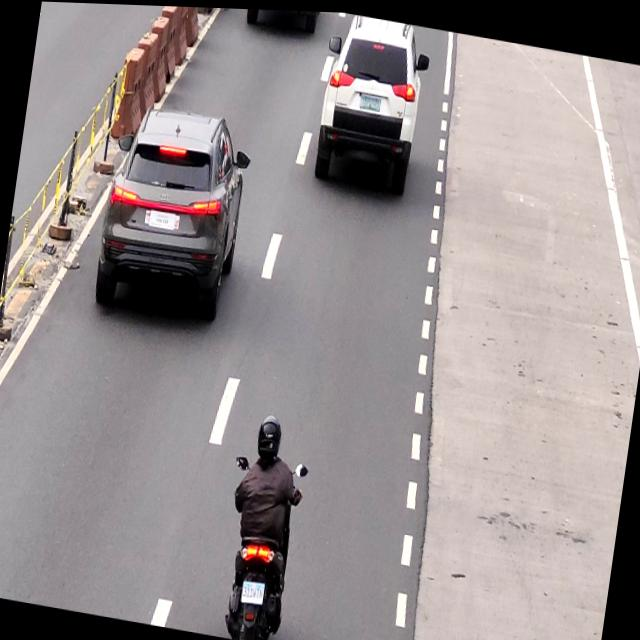Car: (93, 103, 250, 325), (315, 9, 427, 193)
License-Plate: (142, 204, 182, 232), (238, 574, 268, 608), (359, 89, 383, 107)
Motorcycle: (216, 400, 310, 640)
